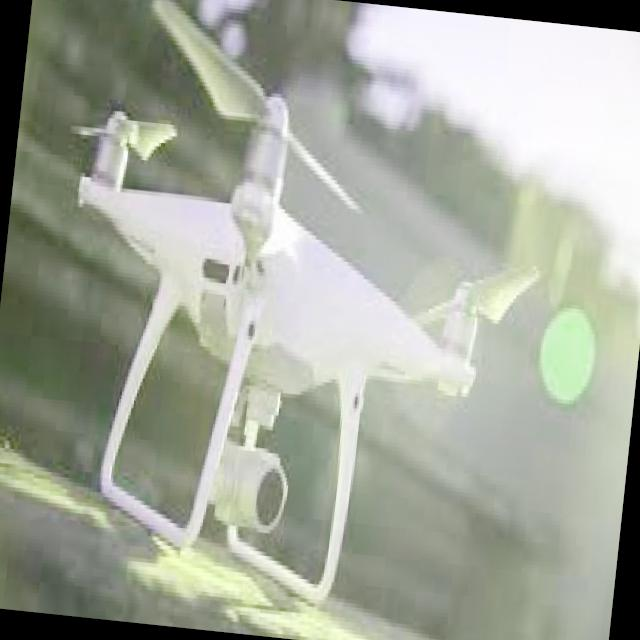drone: (13, 0, 570, 640)
